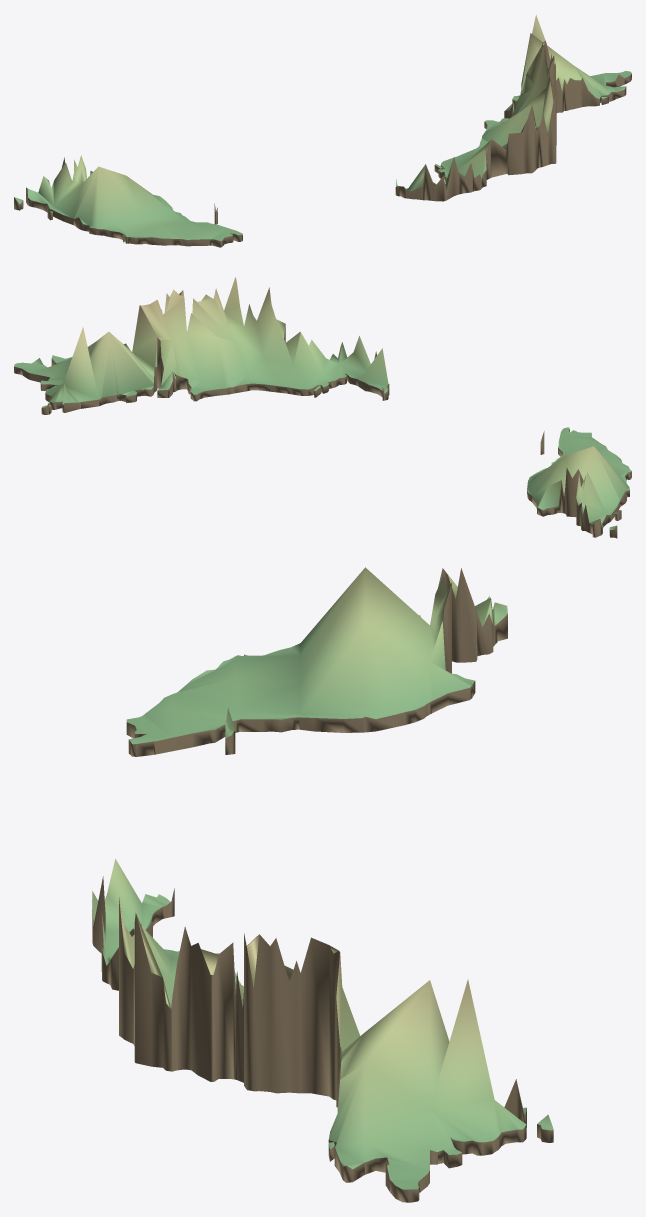
The model's file is MYS.glb.
3 renders of one model, top to bottom at view 1: azimuth 30°, elevation 25°; view 2: azimuth 150°, elevation 25°; view 3: azimuth 270°, elevation 25°, orthographic. The views are drawn at different scales.
Parts seen in each view (by area): view 1: MYS; view 2: MYS; view 3: MYS.
Boxes of the visible parts, x1,y1,x2,y2 form: MYS: (14,15,631,247); MYS: (14,277,631,538); MYS: (92,567,553,1202).
Bounding box in the file's own units: 1.83 × 0.2299 × 0.612.
